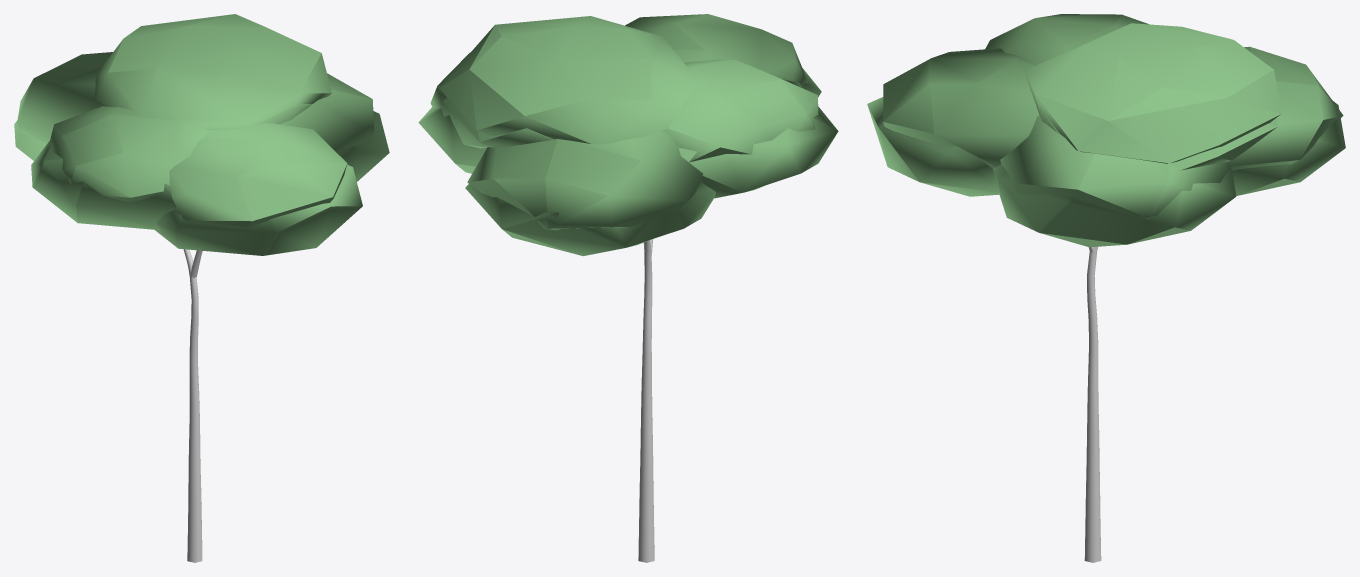
Rendered from Low-Poly-Birch-Tree.fbx.
The picture shows the model from 3 angles, left to right: view 1: azimuth 30°, elevation 25°; view 2: azimuth 150°, elevation 25°; view 3: azimuth 270°, elevation 25°; orthographic projection. The views are drawn at different scales.
Visible parts, largest first — view 1: Leaves, Trunk; view 2: Leaves, Trunk; view 3: Leaves, Trunk.
Part boxes in pixels (x1,y1,x2,y2): Leaves: (14,14,389,255); Trunk: (183,249,202,562); Leaves: (418,14,838,256); Trunk: (638,239,654,562); Leaves: (867,14,1345,247); Trunk: (1084,246,1101,562).
Bounding box in the file's own units: 447 × 626 × 510.
